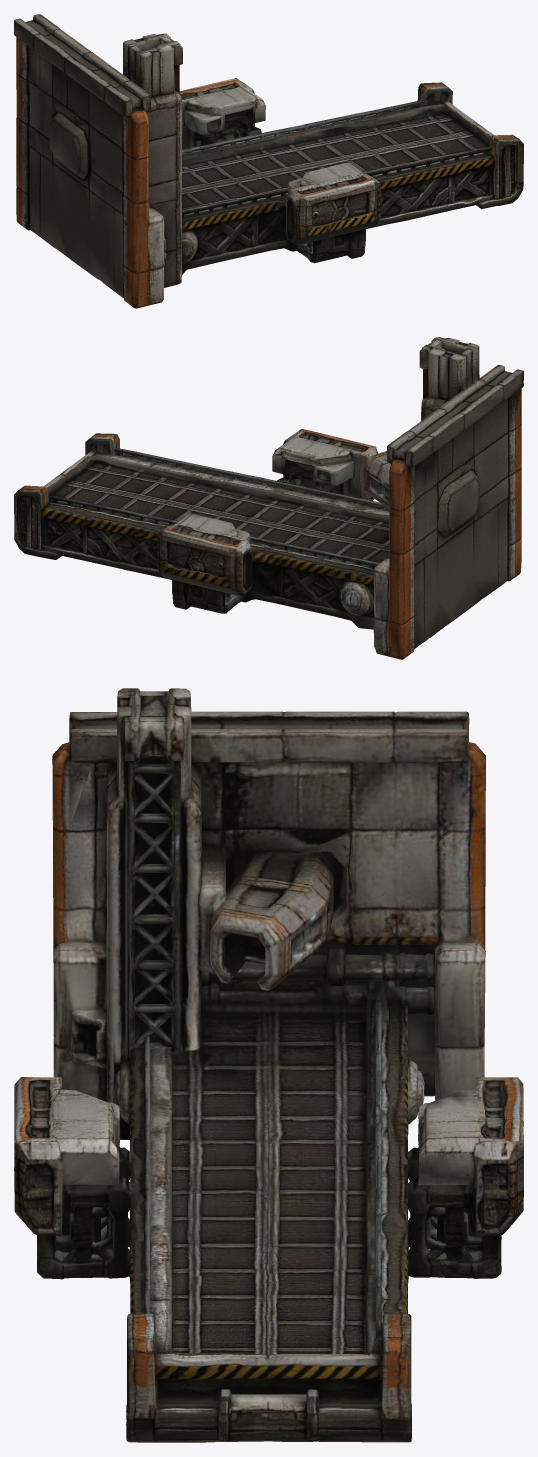
The model's file is berth.glb.
The picture shows the model from 3 angles, top to bottom: view 1: azimuth 30°, elevation 25°; view 2: azimuth 150°, elevation 25°; view 3: azimuth 270°, elevation 25°; orthographic projection. The views are drawn at different scales.
Parts seen in each view (by area): view 1: tripo_node_ca469f75-f464-44d2-a7d7-350676f002a7; view 2: tripo_node_ca469f75-f464-44d2-a7d7-350676f002a7; view 3: tripo_node_ca469f75-f464-44d2-a7d7-350676f002a7.
Part boxes in pixels (x1,y1,x2,y2): tripo_node_ca469f75-f464-44d2-a7d7-350676f002a7: (14, 14, 523, 308); tripo_node_ca469f75-f464-44d2-a7d7-350676f002a7: (14, 337, 523, 659); tripo_node_ca469f75-f464-44d2-a7d7-350676f002a7: (14, 688, 523, 1442).
Size of the model in its own units: 0.9995 by 0.5536 by 0.592.
Materials: 1 (1 with a texture image).
